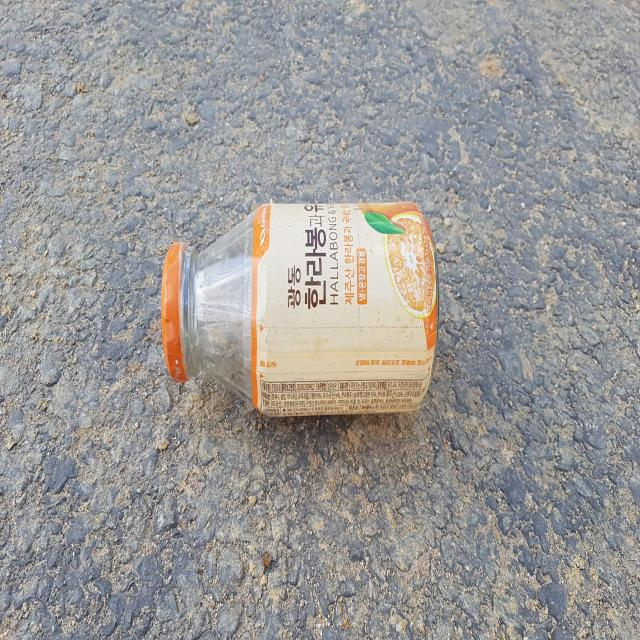glass: (162, 201, 440, 416)
